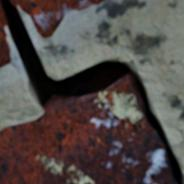brick: (0, 75, 176, 183)
broken_brick: (10, 0, 105, 37), (0, 3, 11, 67)
crack: (0, 0, 182, 183)
